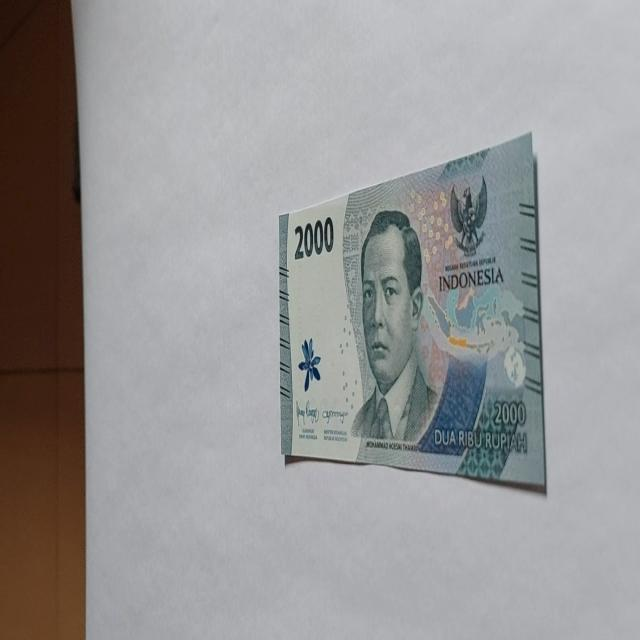dua ribu rupiah: (278, 130, 546, 492), (349, 208, 439, 444)
